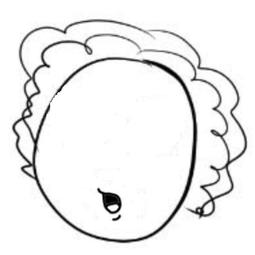open_mouth: (92, 189, 127, 219)
